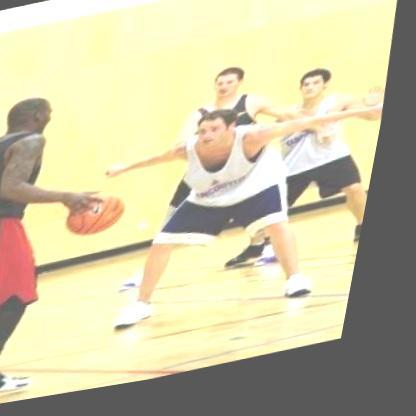basketball: (65, 186, 145, 250)
